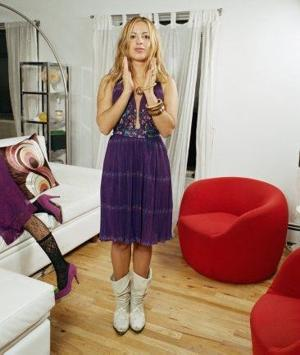person: (97, 16, 179, 334)
